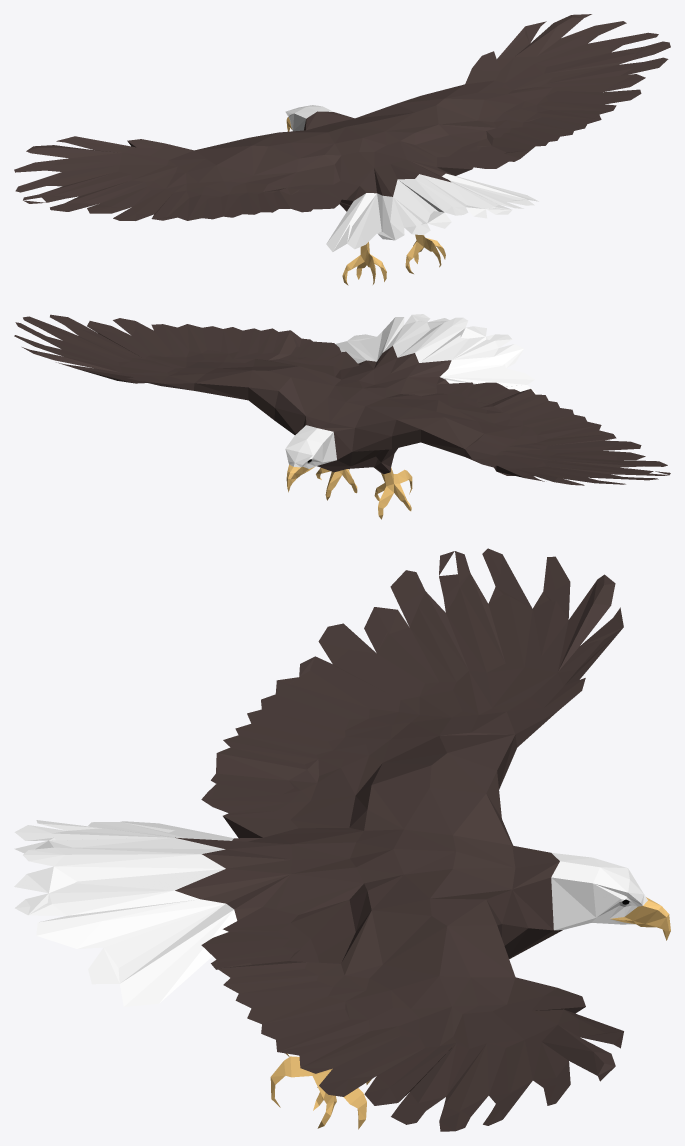
Rendered from adlerFootOut05.dae.
3 renders of one model, top to bottom at view 1: azimuth 30°, elevation 25°; view 2: azimuth 150°, elevation 25°; view 3: azimuth 270°, elevation 25°, orthographic. The views are drawn at different scales.
Visible parts, largest first — view 1: SketchUp (×5); view 2: SketchUp (×5); view 3: SketchUp (×5).
Boxes of the visible parts, x1,y1,x2,y2 form: SketchUp (×5): (15, 14, 670, 285); SketchUp (×5): (15, 314, 669, 519); SketchUp (×5): (14, 548, 670, 1131).
Size of the model in its own units: 1475 by 706 by 322.
